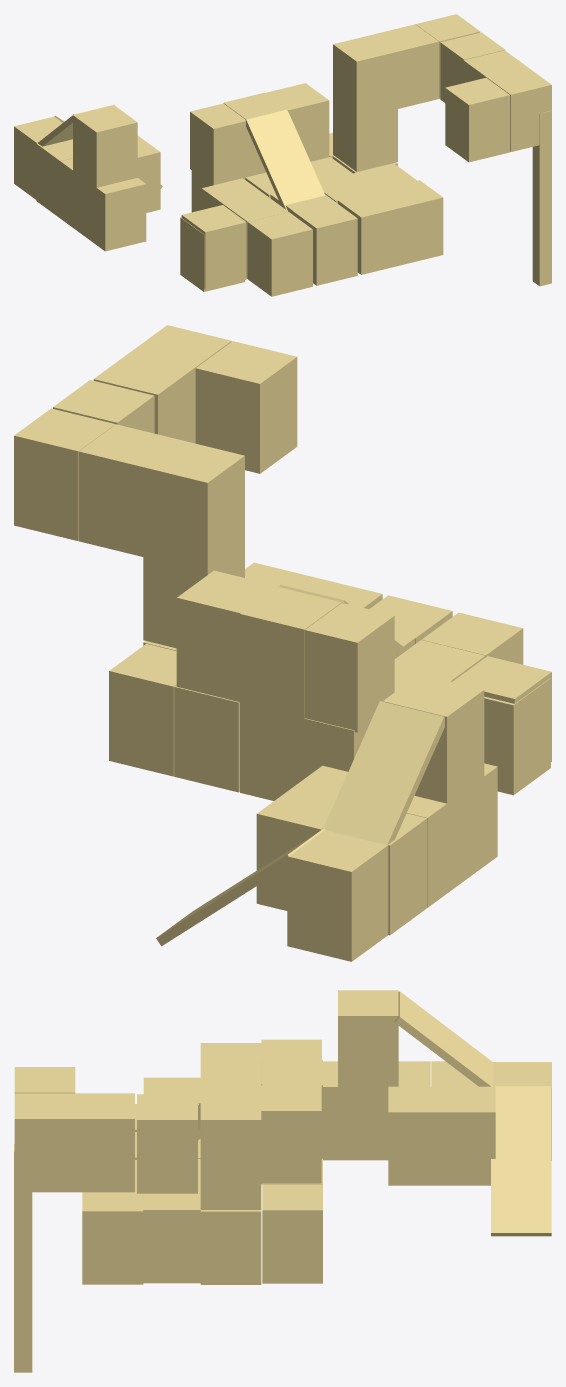
The model's file is stage04 atarihanntei.fbx.
The picture shows the model from 3 angles, top to bottom: view 1: azimuth 30°, elevation 25°; view 2: azimuth 150°, elevation 25°; view 3: azimuth 270°, elevation 25°; orthographic projection. The views are drawn at different scales.
Visible parts, largest first — view 1: Cube__26_, Cube__7_3, Cube__4__3, Cube__31_, Cube__16_, Cube__2_2, Cube__4__4, Cube__30_, Cube__28_, Cube__27_, Cube__25_1, Cube__28_1 (+22 smaller); view 2: Cube__6_, Cube__31_, Cube__7_3, Cube__2_1, Cube__16_, Cube__33_, Cube__14_, Cube__32_, Cube__15_, Cube__19_1, Cube__4__3, Cube__19_ (+18 smaller); view 3: Cube__1_, Cube__2_, Cube__33_, Cube__7_4, Cube__34_, Cube__19_1, Cube__7_, Cube__15_, Cube__4__3, Cube__28_1, Cube__21_1, Cube__29_ (+13 smaller).
Boxes of the visible parts, x1,y1,x2,y2 form: Cube__26_: [248, 212, 312, 296]; Cube__7_3: [445, 77, 509, 162]; Cube__4__3: [73, 105, 137, 189]; Cube__31_: [333, 34, 397, 118]; Cube__16_: [190, 103, 254, 185]; Cube__2_2: [245, 109, 325, 210]; Cube__4__4: [81, 178, 146, 251]; Cube__30_: [333, 97, 397, 171]; Cube__28_: [338, 190, 402, 274]; Cube__27_: [293, 201, 357, 285]; Cube__25_1: [181, 205, 246, 289]; Cube__28_1: [379, 180, 443, 264]; Cube__6_: [287, 830, 388, 961]; Cube__31_: [143, 440, 244, 565]; Cube__7_3: [195, 341, 297, 473]; Cube__2_1: [323, 701, 444, 845]; Cube__16_: [305, 603, 394, 732]; Cube__33_: [14, 408, 115, 541]; Cube__14_: [240, 587, 341, 719]; Cube__32_: [79, 424, 179, 556]; Cube__15_: [176, 570, 278, 702]; Cube__19_1: [109, 644, 176, 776]; Cube__4__3: [382, 674, 484, 806]; Cube__19_: [174, 685, 239, 792]; Cube__1_: [388, 1086, 495, 1185]; Cube__2_: [491, 1086, 551, 1236]; Cube__33_: [200, 1094, 261, 1193]; Cube__7_4: [14, 1093, 75, 1192]; Cube__34_: [137, 1094, 197, 1193]; Cube__19_1: [262, 1184, 322, 1283]; Cube__7_: [74, 1093, 134, 1192]; Cube__15_: [261, 1085, 321, 1184]; Cube__4__3: [338, 990, 398, 1089]; Cube__28_1: [82, 1185, 143, 1284]; Cube__21_1: [143, 1184, 200, 1283]; Cube__29_: [200, 1210, 261, 1284].
Size of the model in its own units: 12.04 by 6.91 by 13.29.
